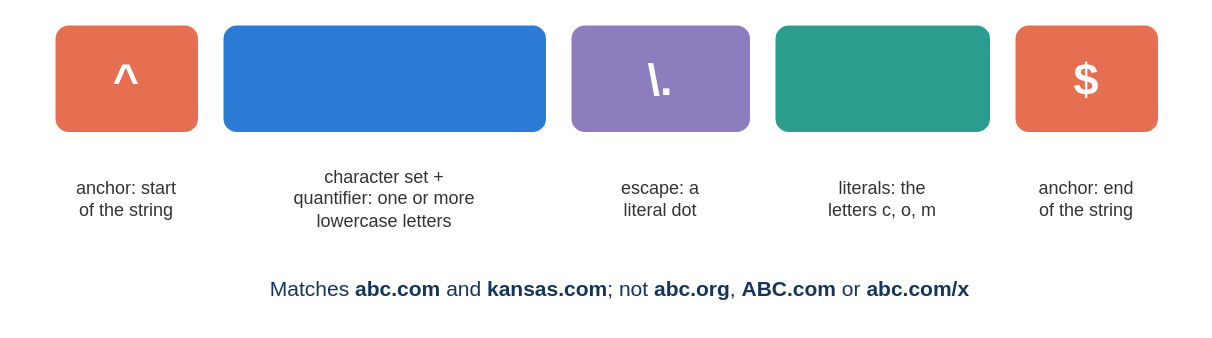
Some shapes in this 1212 by 338 pixel diagram are drawn without their labels. Each missing label, with the centre of its shape:
"[a-z]+" belongs at point 384,78.
"com" belongs at point 882,78.
